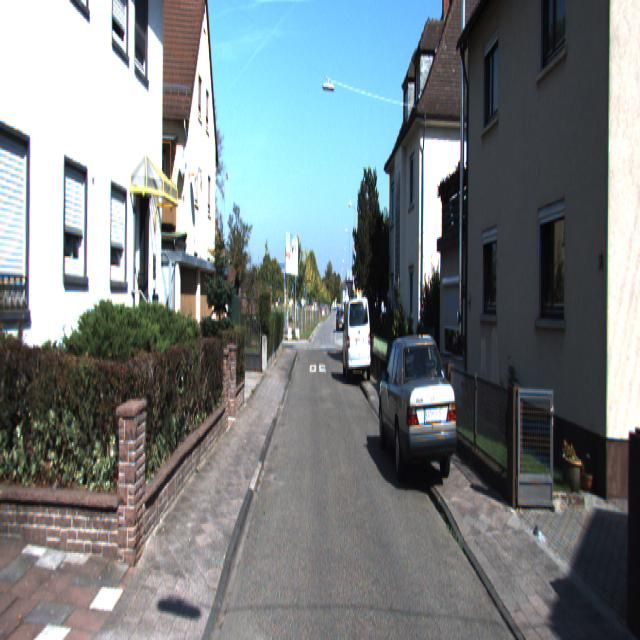Car: (378, 325, 458, 501), (342, 293, 372, 385)
